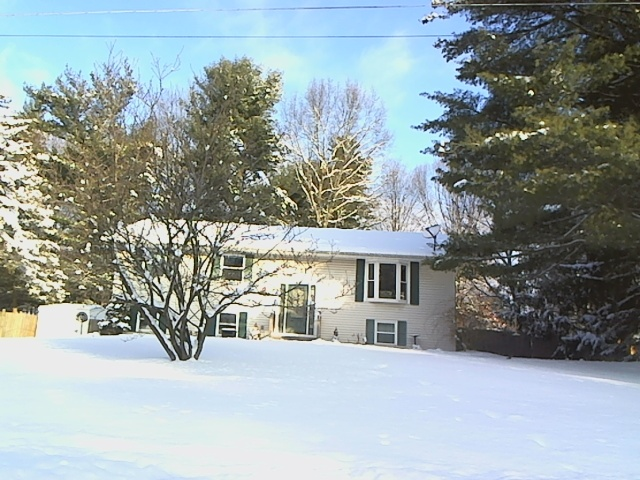Unploughed: (274, 292, 323, 436)
